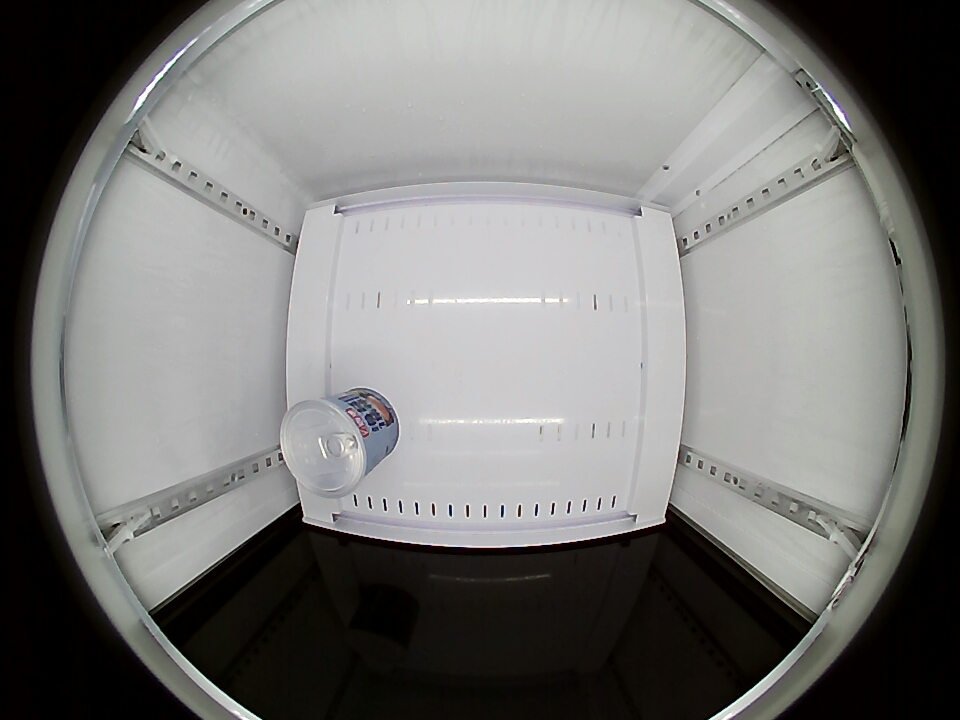haitai: (279, 393, 381, 498)
